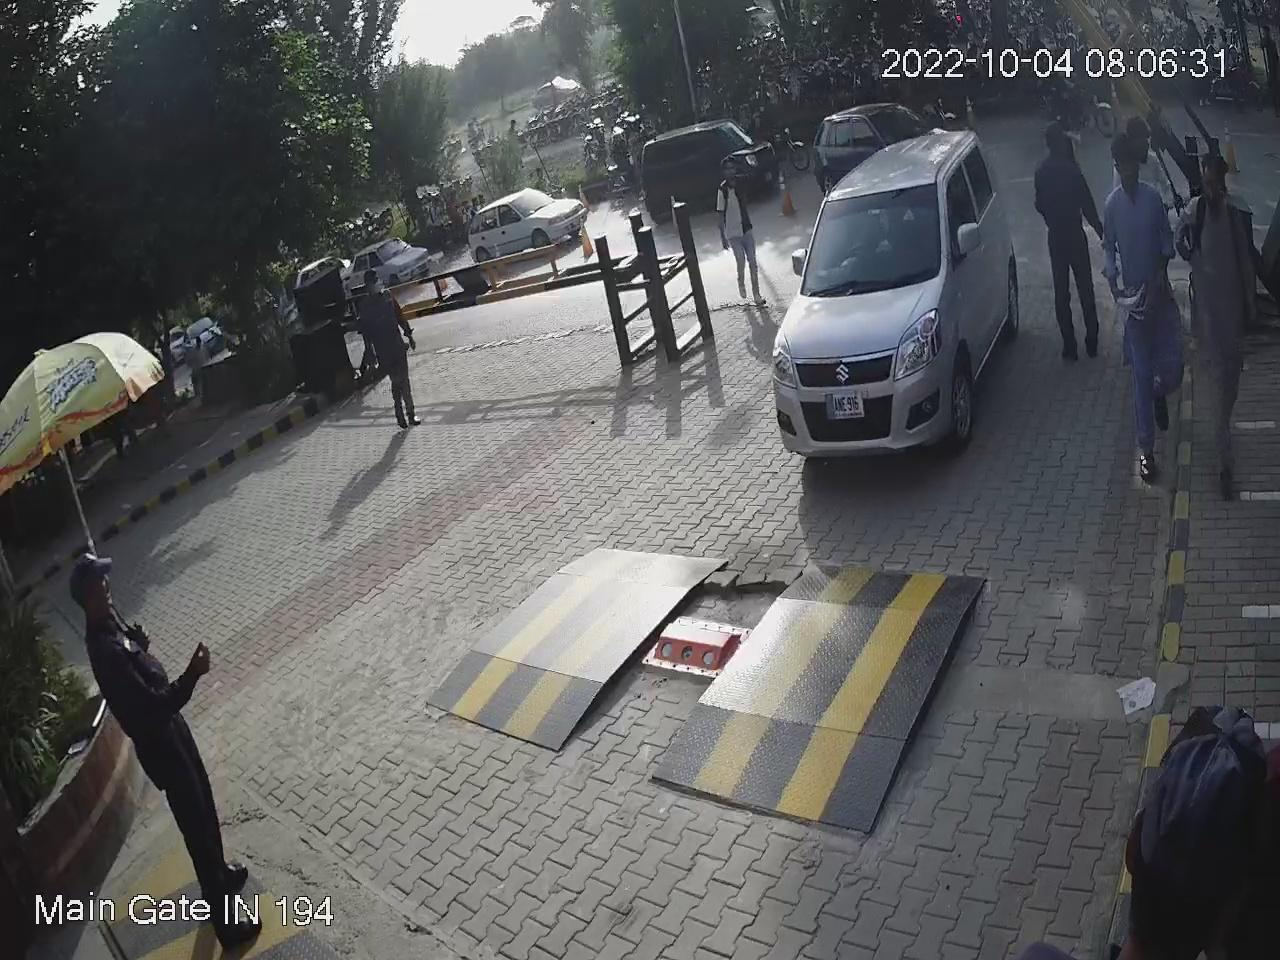windshield: (793, 181, 942, 295)
